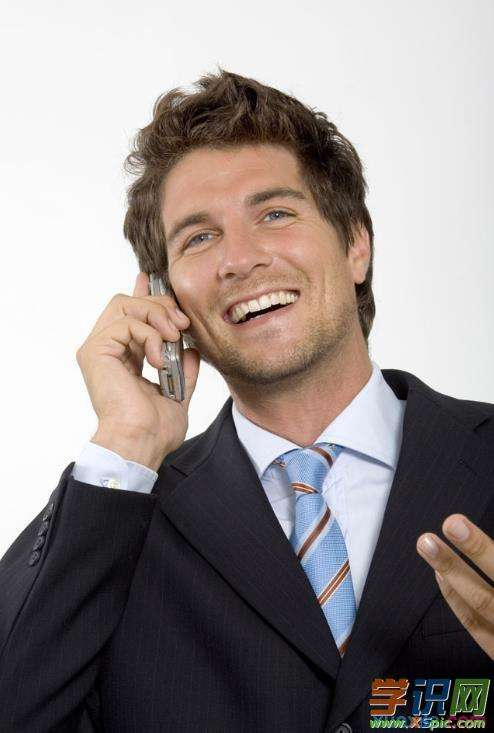calling: (68, 258, 208, 462)
